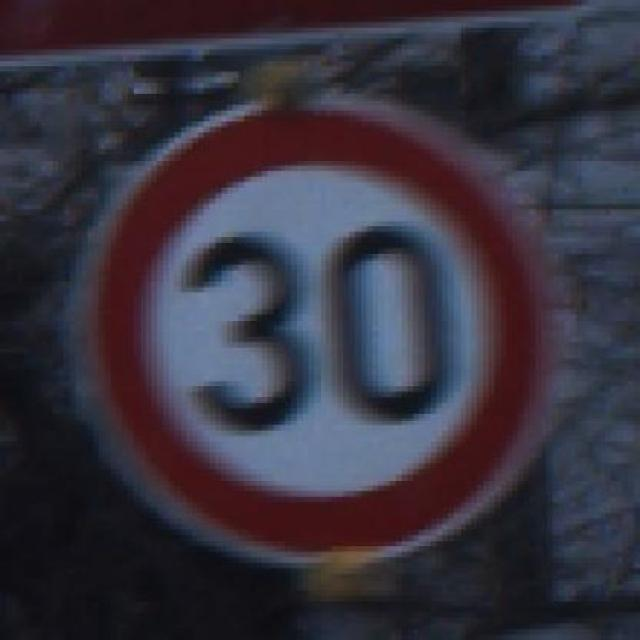Speed Limit 30 KMPh: (18, 61, 599, 568)
